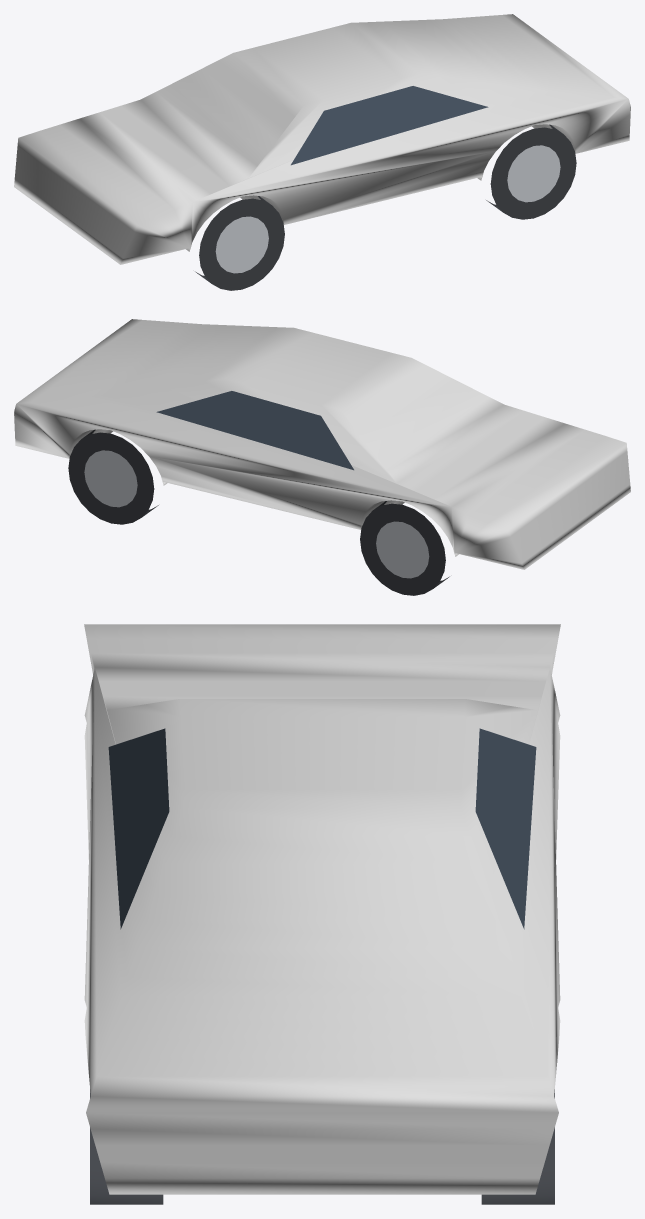
Rendered from ronin_ss.glb.
3 renders of one model, top to bottom at view 1: azimuth 30°, elevation 25°; view 2: azimuth 150°, elevation 25°; view 3: azimuth 270°, elevation 25°, orthographic. The views are drawn at different scales.
Parts seen in each view (by area): view 1: Car; view 2: Car; view 3: Car.
Boxes of the visible parts, box(x1,y1,x2,y2) form: Car: box(14, 14, 630, 290); Car: box(14, 319, 630, 595); Car: box(84, 624, 560, 1204).
Size of the model in its own units: 3.84 by 1.08 by 1.56.
